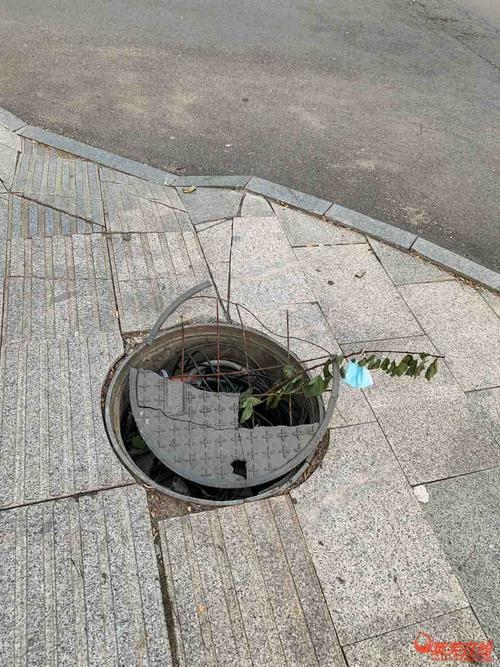broke: (88, 297, 354, 519)
